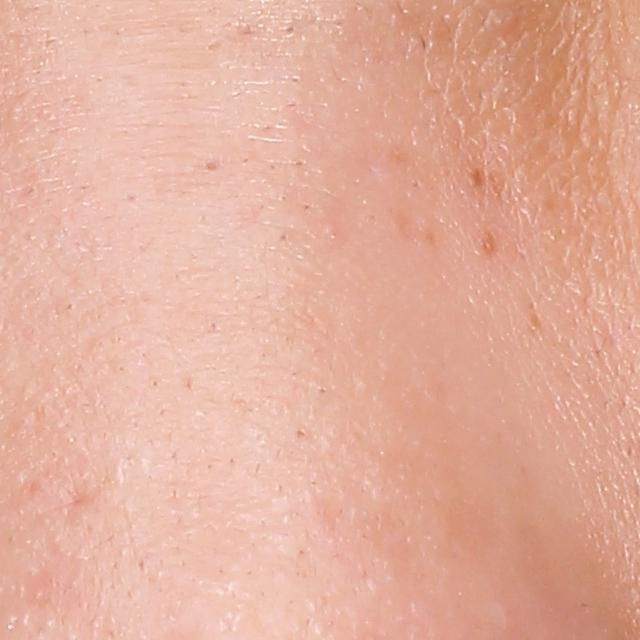comedo: (200, 153, 224, 175), (282, 22, 296, 39)
melasma: (466, 169, 494, 195)
